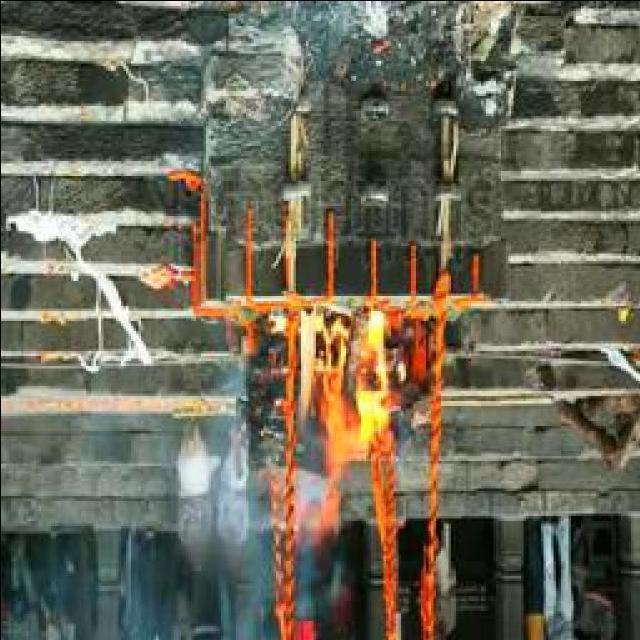Fire: (290, 307, 400, 465)
